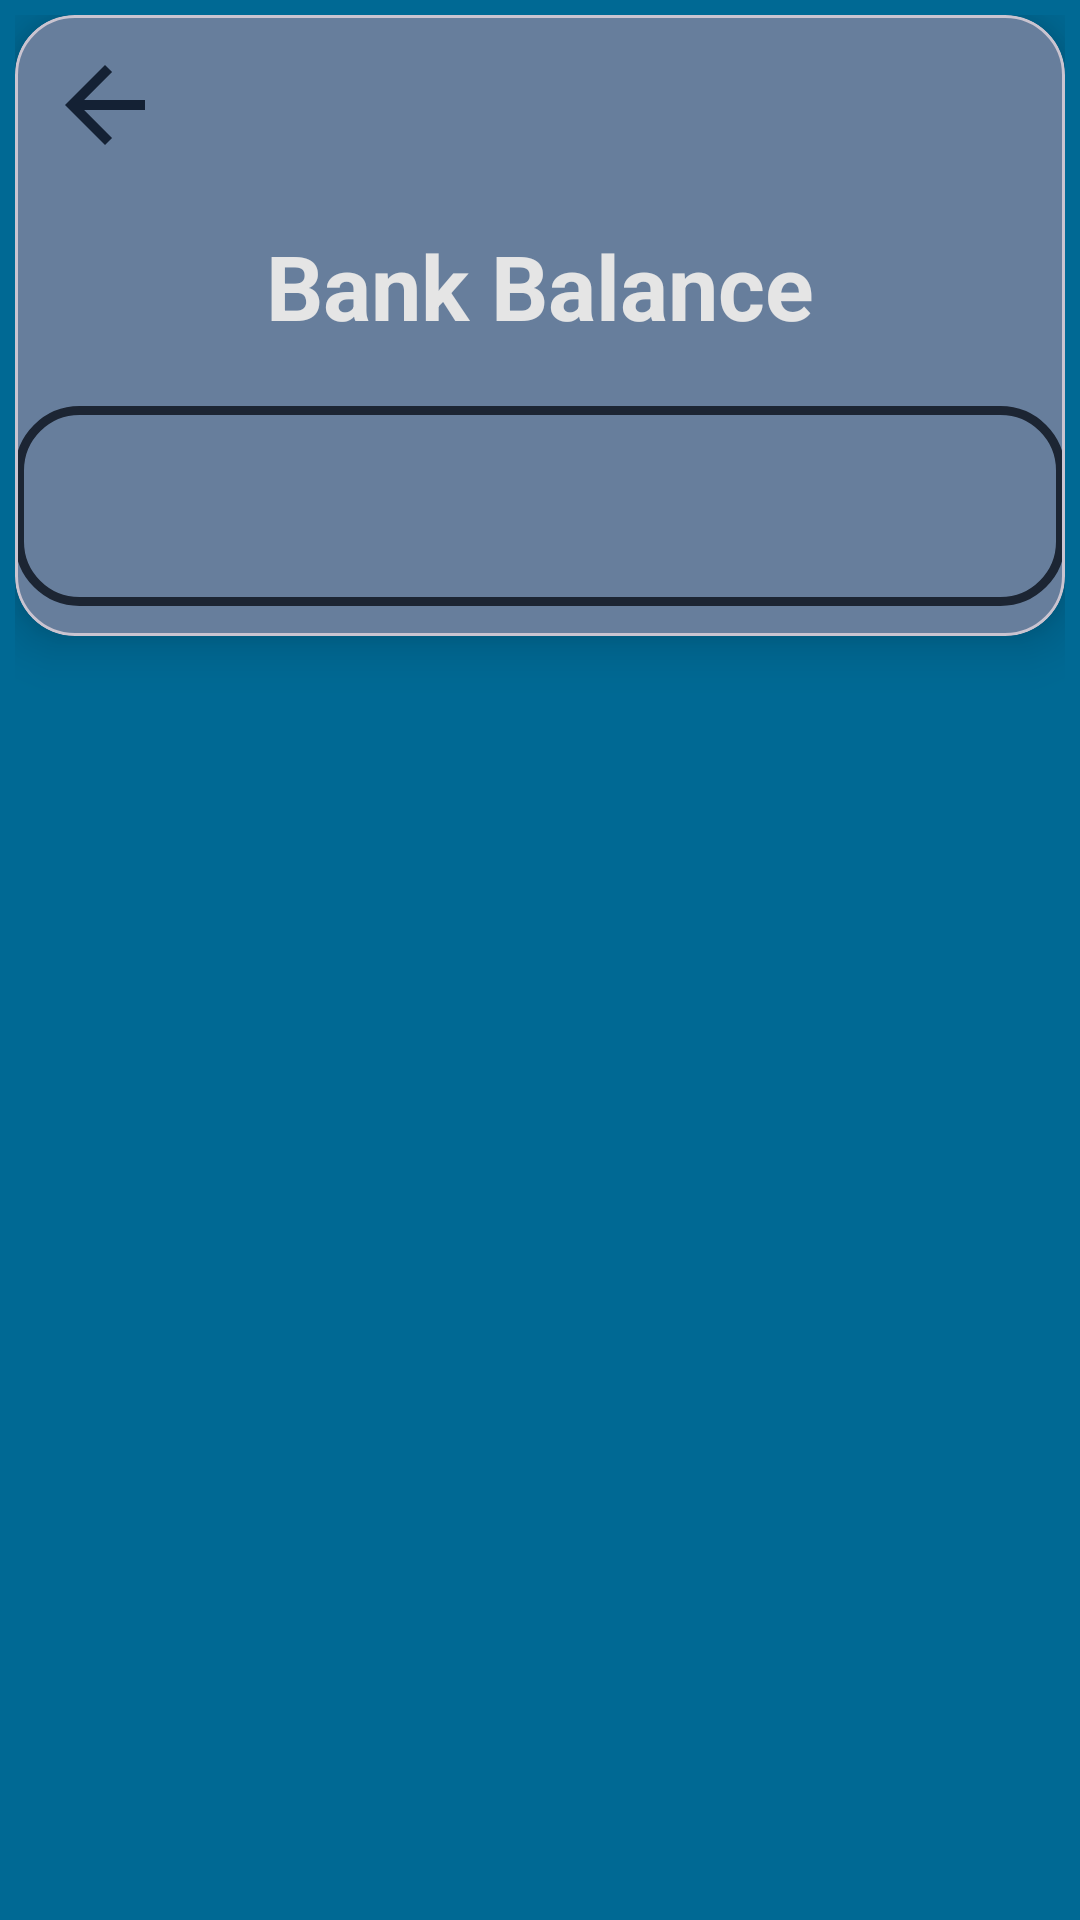

Point at icon controls on the screen. Image size 1080*1920, points as (x=x, y=y).
Back to Menu: (x=105, y=105)
